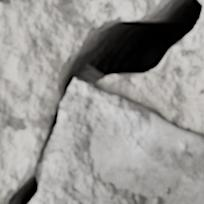brick: (30, 79, 203, 203)
crack: (0, 0, 203, 203)
